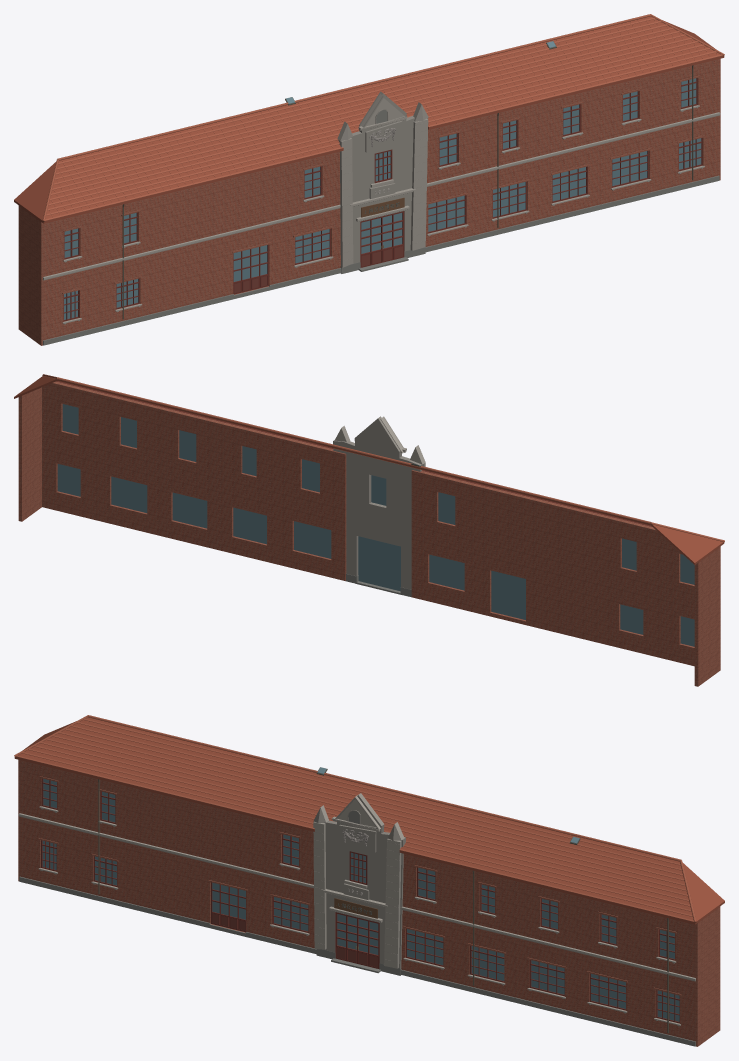
File: huangpu-puyutang-museum-south-front-lod.glb
3 renders of one model, top to bottom at view 1: azimuth 30°, elevation 25°; view 2: azimuth 150°, elevation 25°; view 3: azimuth 330°, elevation 25°, orthographic.
Parts seen in each view (by area): view 1: 普育堂旧址一号楼南立面与1925年门厅; view 2: 普育堂旧址一号楼南立面与1925年门厅; view 3: 普育堂旧址一号楼南立面与1925年门厅.
Boxes of the visible parts, bbox=[...] form: 普育堂旧址一号楼南立面与1925年门厅: bbox=[14, 14, 724, 345]; 普育堂旧址一号楼南立面与1925年门厅: bbox=[14, 374, 724, 686]; 普育堂旧址一号楼南立面与1925年门厅: bbox=[14, 715, 724, 1046].
Bounding box in the file's own units: 48.07 × 11.5 × 3.99.
15 materials, 1 textured.
